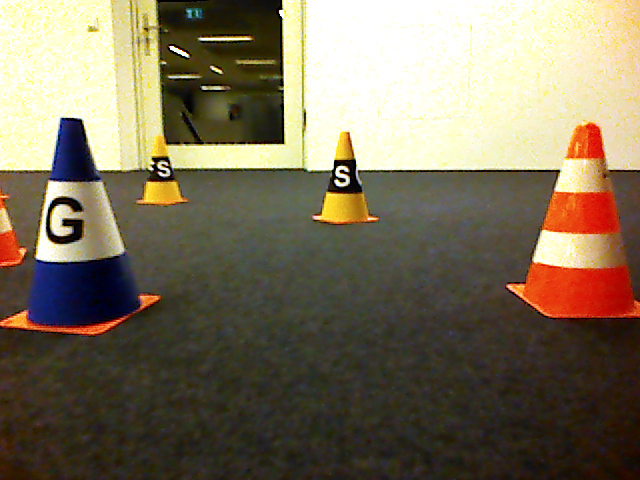bluecone: (1, 116, 159, 338)
orangeconesmall: (506, 121, 640, 321)
yellowcone: (311, 130, 383, 226), (134, 135, 191, 206)
